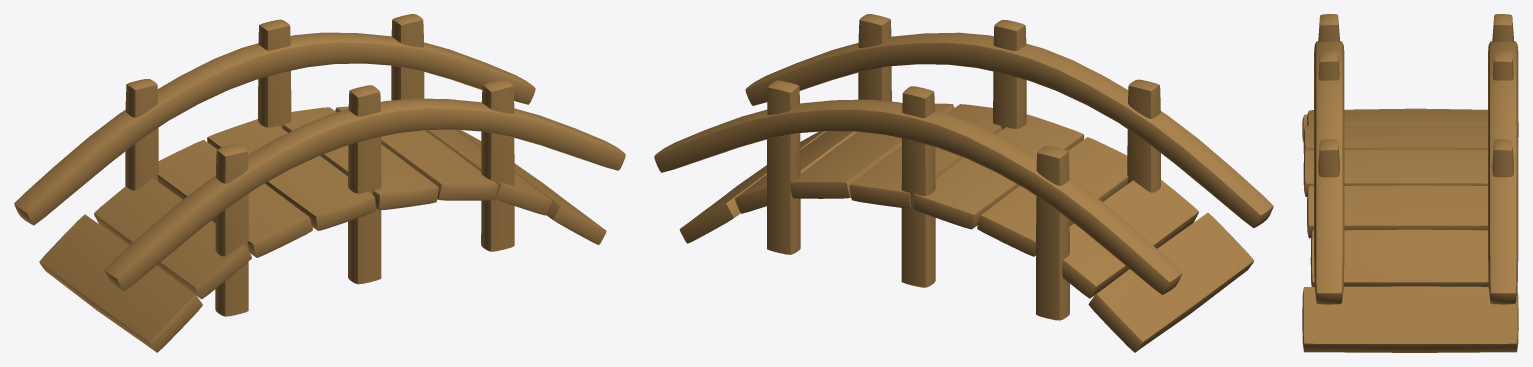
File: Bridge_Small.glb
3 renders of one model, left to right at view 1: azimuth 30°, elevation 25°; view 2: azimuth 150°, elevation 25°; view 3: azimuth 270°, elevation 25°, orthographic. The views are drawn at different scales.
Visible parts, largest first — view 1: Bridge_Small; view 2: Bridge_Small; view 3: Bridge_Small.
Part boxes in pixels (<box>): Bridge_Small: <box>14,14,625,352</box>; Bridge_Small: <box>654,14,1273,352</box>; Bridge_Small: <box>1302,14,1518,352</box>.
Bounding box in the file's own units: 6.94 × 2.62 × 2.64.
